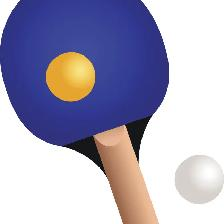WhiteBall: (174, 155, 223, 204)
YellowBall: (45, 51, 96, 102)
